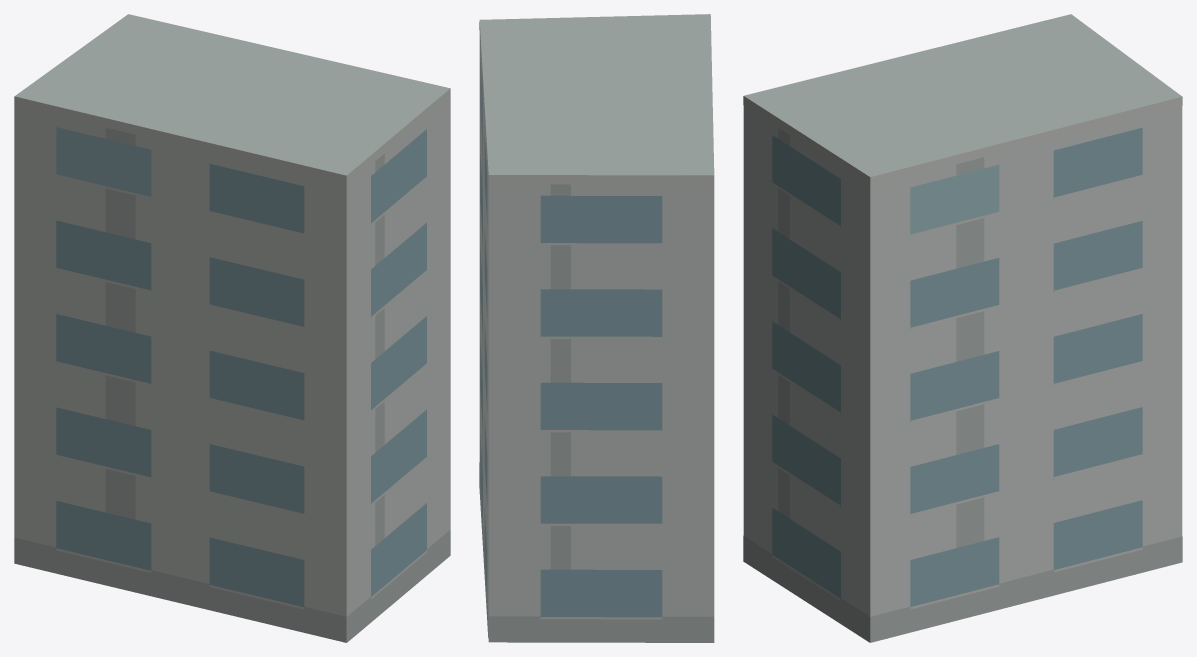
The model's file is survey-upis-32975452.glb.
3 views of the same model, side by side, from view 1: azimuth 30°, elevation 25°; view 2: azimuth 150°, elevation 25°; view 3: azimuth 270°, elevation 25° (orthographic).
Visible parts, largest first — view 1: survey-upis-32975452.tmp; view 2: survey-upis-32975452.tmp; view 3: survey-upis-32975452.tmp.
Part boxes in pixels (x1=…): survey-upis-32975452.tmp: x1=14, y1=14, x2=450, y2=642; survey-upis-32975452.tmp: x1=479, y1=14, x2=714, y2=642; survey-upis-32975452.tmp: x1=743, y1=14, x2=1182, y2=642.
Bounding box in the file's own units: 9.1 × 12.1 × 10.35.
